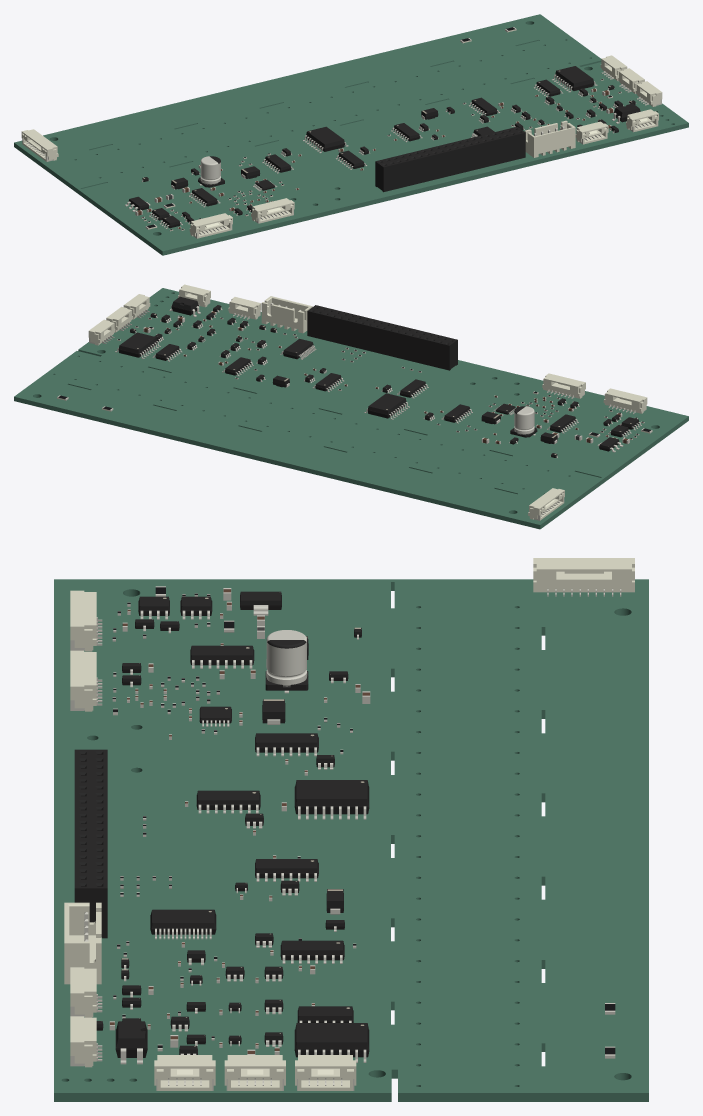
Rendered from cooksense.gltf.
3 renders of one model, top to bottom at view 1: azimuth 30°, elevation 25°; view 2: azimuth 150°, elevation 25°; view 3: azimuth 270°, elevation 25°, orthographic. The views are drawn at different scales.
Parts seen in each view (by area): view 1: =>[0:1:1:58], =>[0:1:1:39], =>[0:1:1:25] (×5), =>[0:1:1:19] (×2), =>[0:1:1:45] (×2), =>[0:1:1:55], =>[0:1:1:47], =>[0:1:1:51]; view 2: =>[0:1:1:58], =>[0:1:1:39], =>[0:1:1:25] (×5), =>[0:1:1:19] (×2), =>[0:1:1:45] (×2), =>[0:1:1:55], =>[0:1:1:47], =>[0:1:1:51], =>[0:1:1:41], =>[0:1:1:57]; view 3: =>[0:1:1:58], =>[0:1:1:25] (×5), =>[0:1:1:17] (×5), =>[0:1:1:39], =>[0:1:1:45] (×2), =>[0:1:1:47], =>[0:1:1:19] (×2), =>[0:1:1:55], =>[0:1:1:51], =>[0:1:1:41], =>[0:1:1:57], =>[0:1:1:53] (+1 smaller).
Boxes of the visible parts, x1,y1,x2,y2 form: =>[0:1:1:58]: (14,14,688,255); =>[0:1:1:39]: (375,126,525,192); =>[0:1:1:25] (×5): (575,55,662,144); =>[0:1:1:19] (×2): (189,198,294,238); =>[0:1:1:45] (×2): (302,66,597,153); =>[0:1:1:55]: (524,120,575,157); =>[0:1:1:47]: (21,129,58,161); =>[0:1:1:51]: (198,156,224,187); =>[0:1:1:58]: (14,288,688,529); =>[0:1:1:39]: (307,305,457,370); =>[0:1:1:25] (×5): (88,284,261,345); =>[0:1:1:19] (×2): (542,373,647,414); =>[0:1:1:45] (×2): (115,332,409,419); =>[0:1:1:55]: (261,296,312,333); =>[0:1:1:47]: (528,488,564,520); =>[0:1:1:51]: (510,406,537,437); =>[0:1:1:41]: (280,338,316,359); =>[0:1:1:57]: (169,296,200,317); =>[0:1:1:58]: (54,579,648,1101); =>[0:1:1:25] (×5): (70,967,356,1090); =>[0:1:1:17] (×5): (190,645,344,963); =>[0:1:1:39]: (74,749,107,938); =>[0:1:1:45] (×2): (294,780,369,1062); =>[0:1:1:47]: (533,558,634,596); =>[0:1:1:19] (×2): (70,590,102,711); =>[0:1:1:55]: (64,902,101,984); =>[0:1:1:51]: (265,630,308,693); =>[0:1:1:41]: (150,909,216,939); =>[0:1:1:57]: (115,1021,147,1064); =>[0:1:1:53]: (297,1006,353,1022).
Size of the model in its own units: 0.188 by 0.0119 by 0.092.
